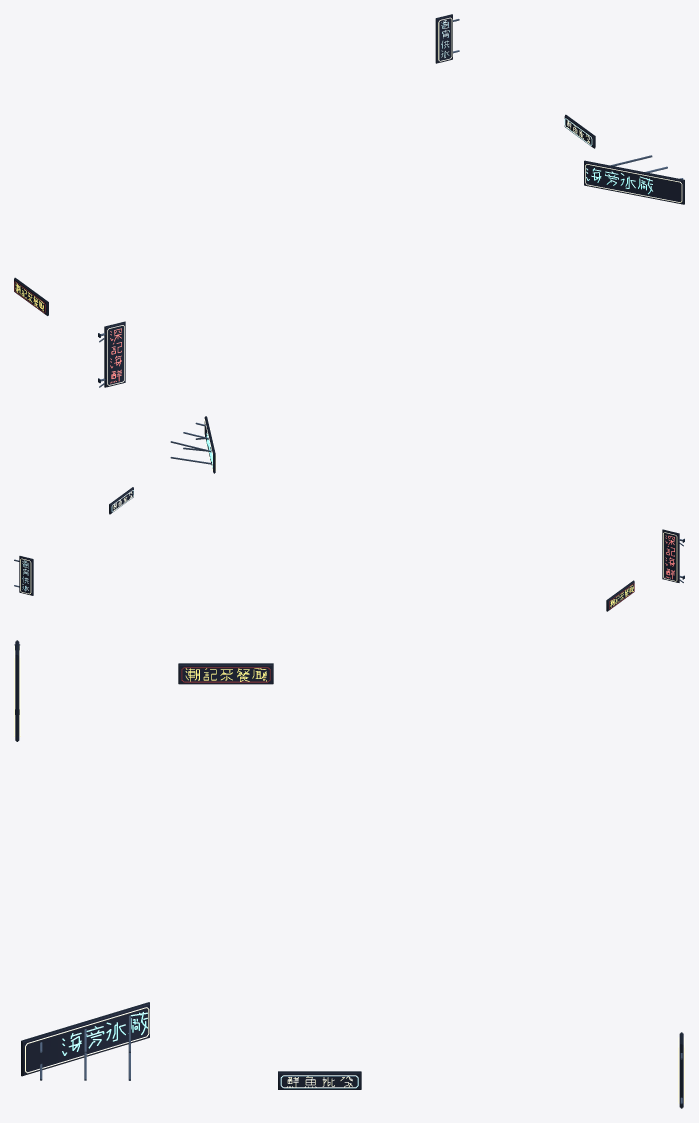
Rendered from street_neon.glb.
The picture shows the model from 3 angles, top to bottom: view 1: azimuth 30°, elevation 25°; view 2: azimuth 150°, elevation 25°; view 3: azimuth 270°, elevation 25°; orthographic projection. The views are drawn at different scales.
Parts seen in each view (by area): view 1: street_neon; view 2: street_neon; view 3: street_neon.
Part boxes in pixels (left/top/right/bottom): street_neon: left=14, top=14, right=684, bottom=387; street_neon: left=14, top=416, right=684, bottom=611; street_neon: left=14, top=640, right=684, bottom=1108.
Bounding box in the file's own units: 46.02 × 4.8 × 31.51.
